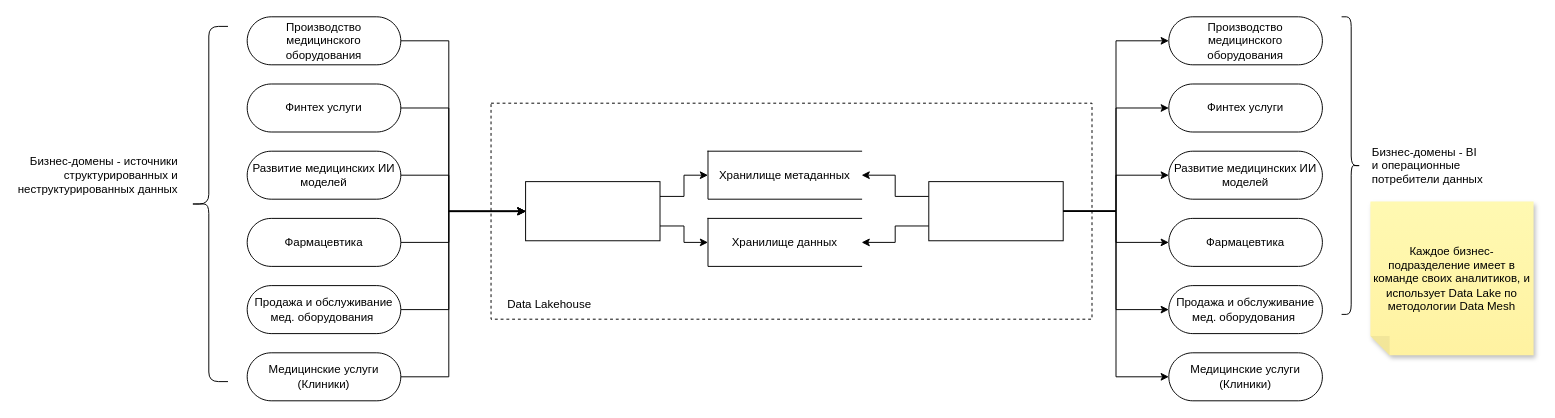
Some shapes in this 1555 by 418 pixel diagram are drawn without their labels. Here are the shapes that lost their labels. From the top down, the centre of each, then its label:
At pixel 592 211: "Процессинг структурированных и неструктурированных данных".
At pixel 995 211: "Витрины данных".
